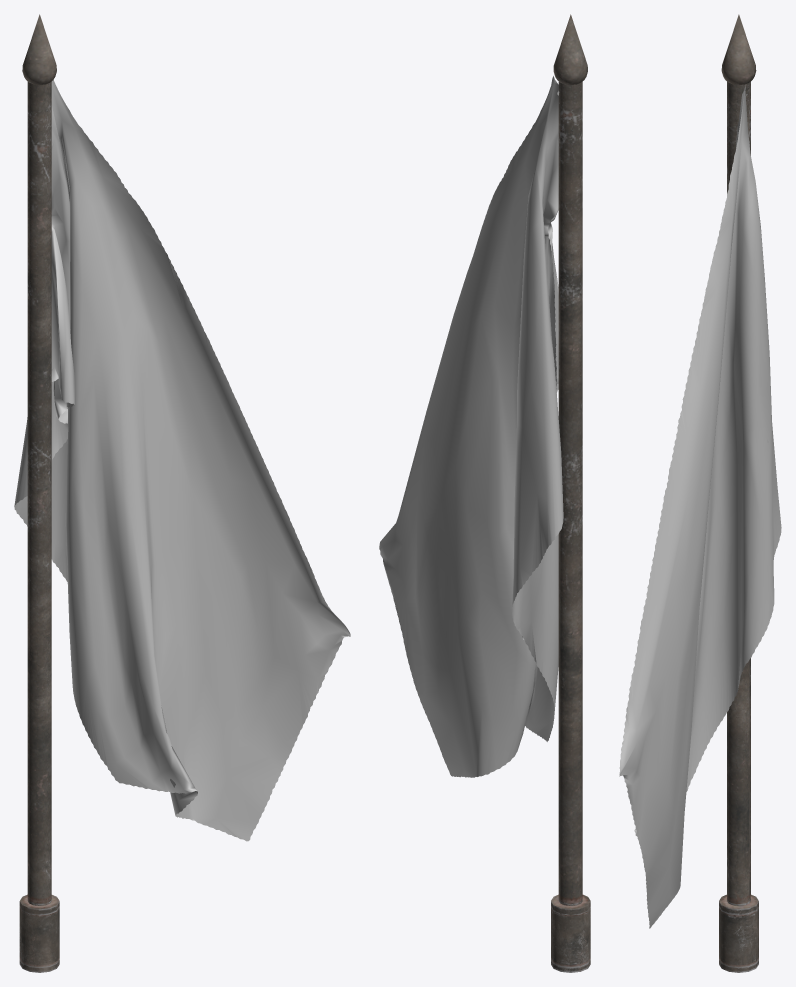
The model's file is SM_Flag02.FBX.
The picture shows the model from 3 angles, left to right: view 1: azimuth 30°, elevation 25°; view 2: azimuth 150°, elevation 25°; view 3: azimuth 270°, elevation 25°; orthographic projection.
Parts seen in each view (by area): view 1: SM_Flag02; view 2: SM_Flag02; view 3: SM_Flag02.
Part boxes in pixels (x1,y1,x2,y2): SM_Flag02: (14,14,350,972); SM_Flag02: (379,14,590,972); SM_Flag02: (619,14,781,972).
Bounding box in the file's own units: 234 × 123 × 793.
